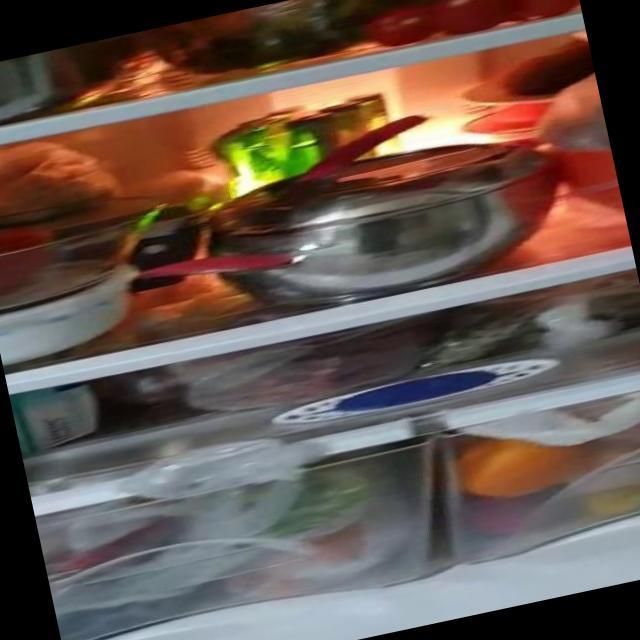mineral water: (223, 96, 349, 180)
orange: (456, 418, 593, 504)
tomato paste: (373, 0, 580, 50)
